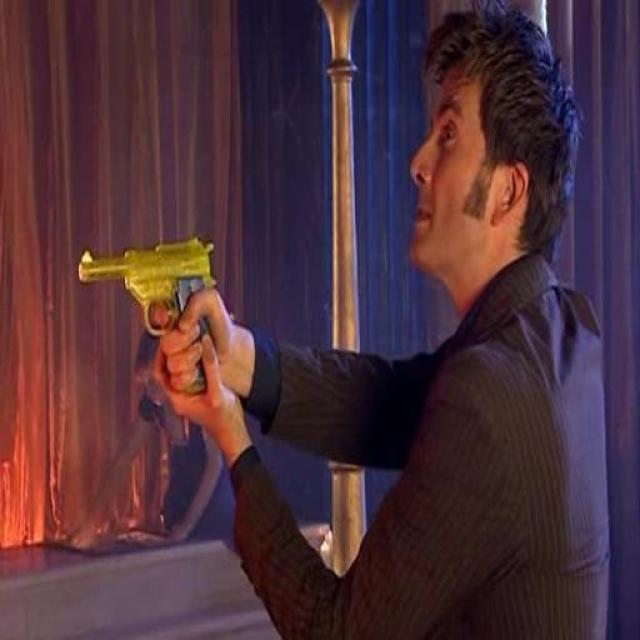pistol: (75, 234, 216, 396)
